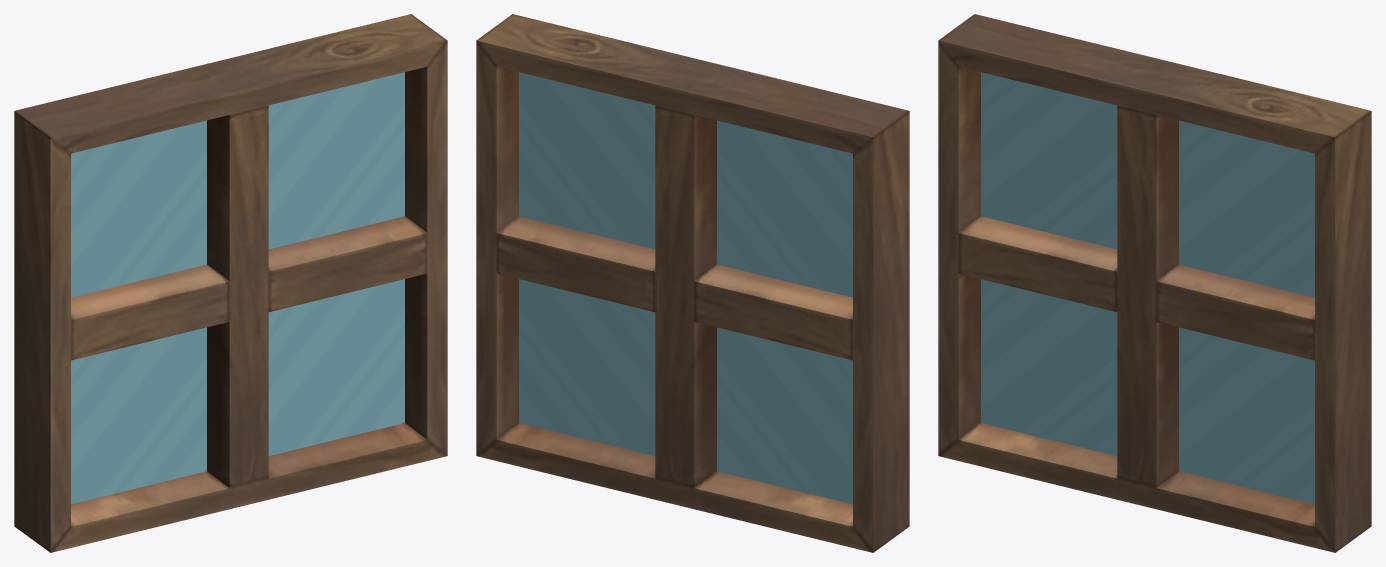
The model's file is F14_WINDOW_W.obj.
3 views of the same model, side by side, from view 1: azimuth 30°, elevation 25°; view 2: azimuth 150°, elevation 25°; view 3: azimuth 330°, elevation 25° (orthographic).
Visible parts, largest first — view 1: F14_WINDOW_W; view 2: F14_WINDOW_W; view 3: F14_WINDOW_W.
Boxes of the visible parts, x1=… form: F14_WINDOW_W: x1=14, y1=14, x2=447, y2=552; F14_WINDOW_W: x1=476, y1=14, x2=909, y2=552; F14_WINDOW_W: x1=938, y1=14, x2=1371, y2=552.
Size of the model in its own units: 1 by 1 by 0.1585.
